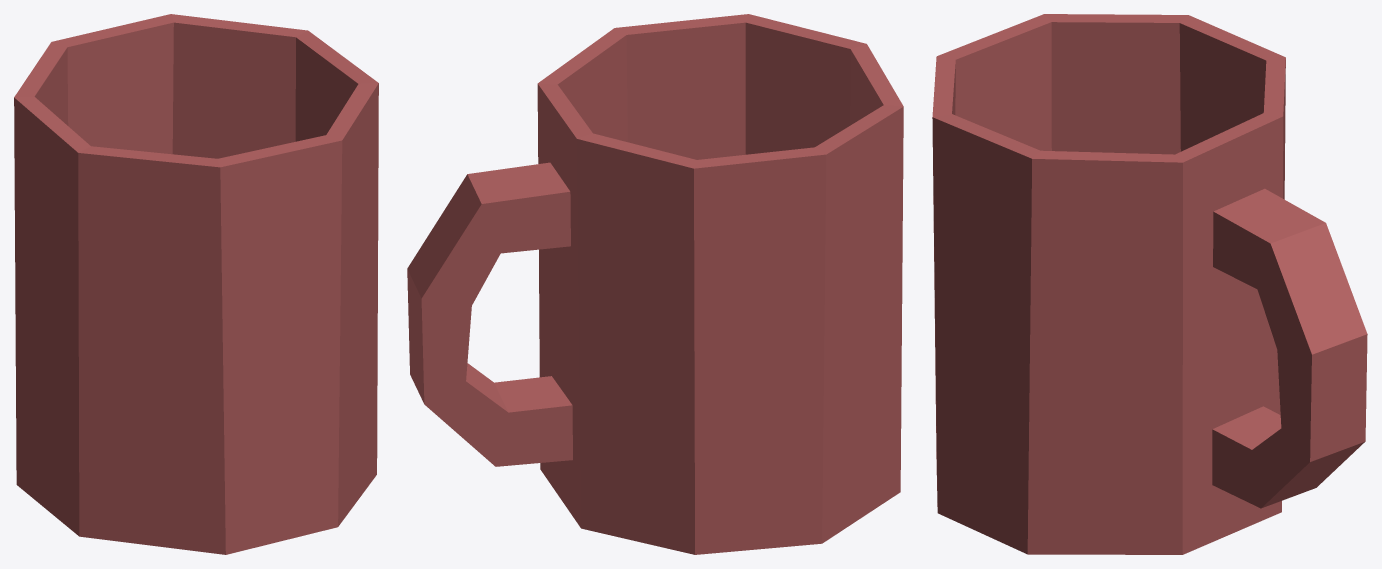
File: Cup_6.fbx
3 views of the same model, side by side, from view 1: azimuth 30°, elevation 25°; view 2: azimuth 150°, elevation 25°; view 3: azimuth 270°, elevation 25° (orthographic). The views are drawn at different scales.
Visible parts, largest first — view 1: Cup_6; view 2: Cup_6; view 3: Cup_6.
Part boxes in pixels (x1,y1,x2,y2): Cup_6: [14, 14, 378, 554]; Cup_6: [407, 14, 903, 554]; Cup_6: [932, 14, 1367, 554].
Size of the model in its own units: 14 by 14.14 by 14.52.
